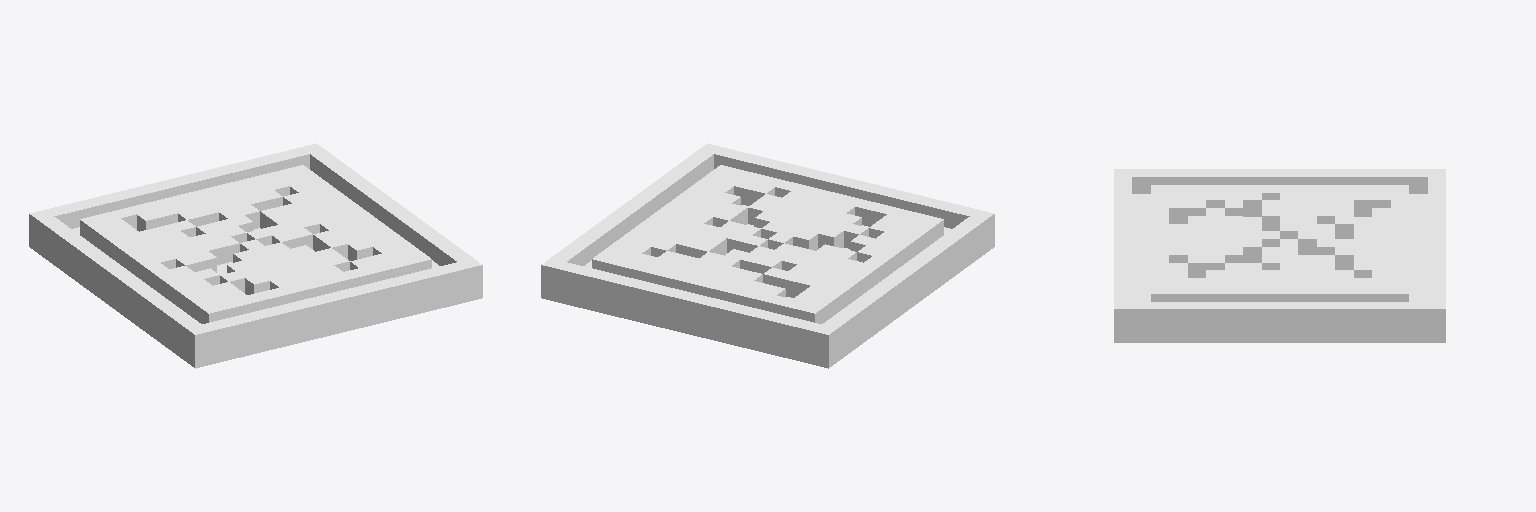
Rendered from FloorTile4.obj.
3 views of the same model, side by side, from view 1: azimuth 30°, elevation 25°; view 2: azimuth 150°, elevation 25°; view 3: azimuth 270°, elevation 25° (orthographic).
Parts seen in each view (by area): view 1: object 1; view 2: object 1; view 3: object 1.
Part boxes in pixels (left/top/right/bottom): object 1: left=29, top=143, right=482, bottom=368; object 1: left=541, top=143, right=994, bottom=368; object 1: left=1114, top=169, right=1445, bottom=342.
Size of the model in its own units: 1.8 by 0.2 by 1.8.